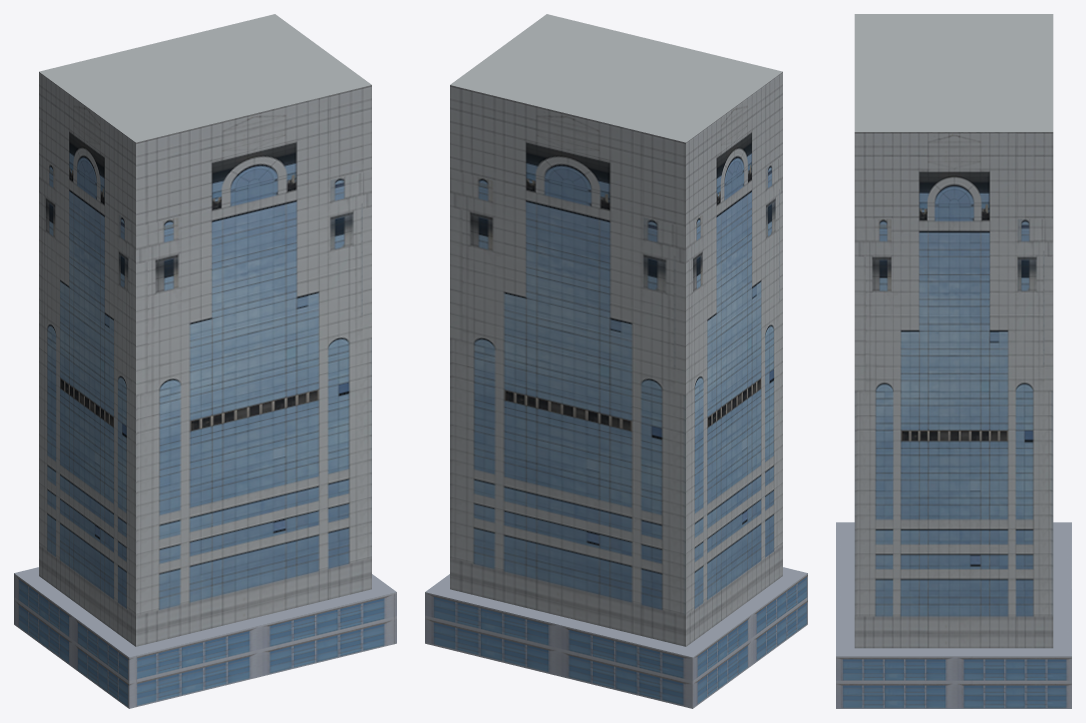
Rendered from building5.dae.
3 renders of one model, left to right at view 1: azimuth 30°, elevation 25°; view 2: azimuth 150°, elevation 25°; view 3: azimuth 270°, elevation 25°, orthographic. The views are drawn at different scales.
Parts seen in each view (by area): view 1: building5; view 2: building5; view 3: building5.
Part boxes in pixels (bbox=[...]): building5: bbox=[14, 14, 396, 708]; building5: bbox=[425, 14, 807, 708]; building5: bbox=[836, 14, 1071, 708].
Size of the model in its own units: 20.64 by 40.94 by 15.37.
1 material, 1 textured.
